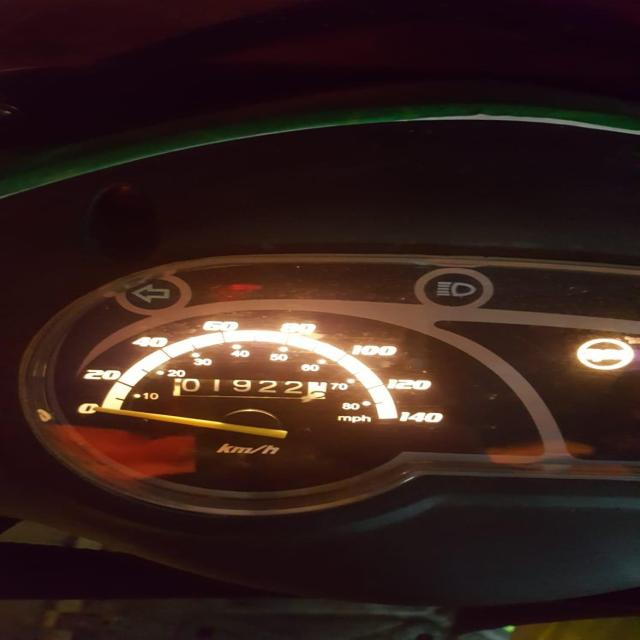odometer: (165, 375, 331, 401)
